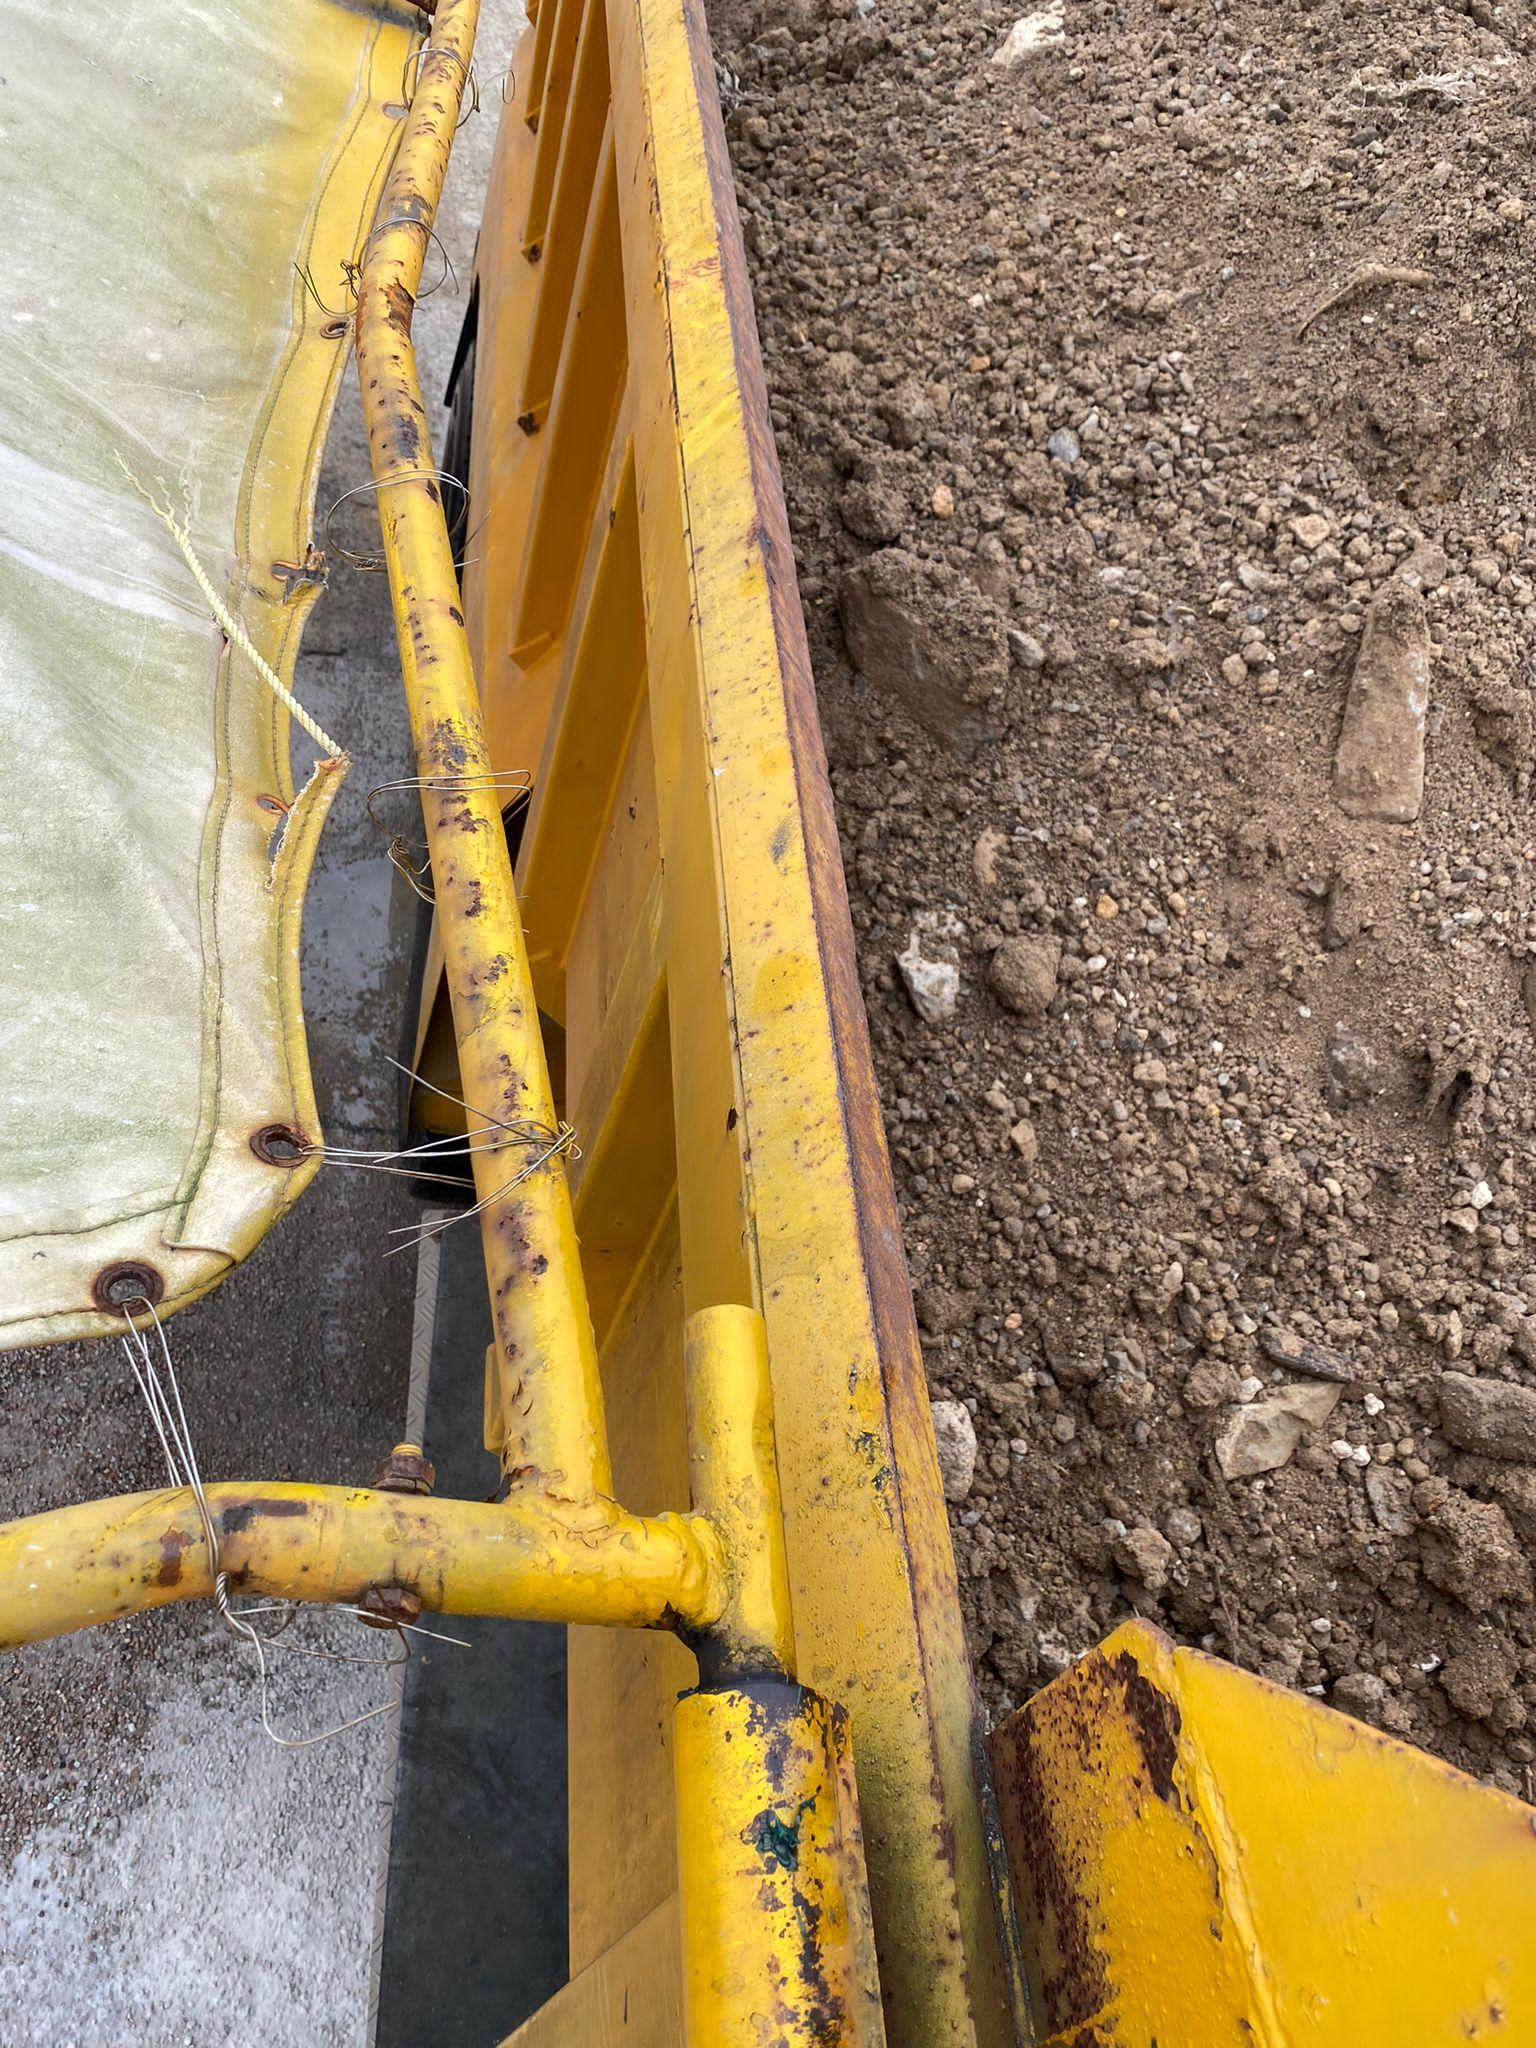wet: (716, 0, 1536, 1771)
